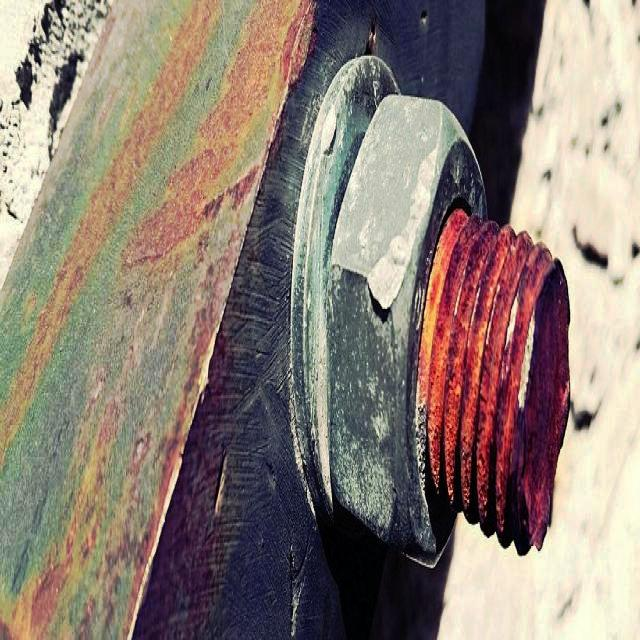Corrosion: (121, 0, 319, 640), (0, 0, 225, 518), (415, 206, 571, 559), (0, 386, 122, 640)
